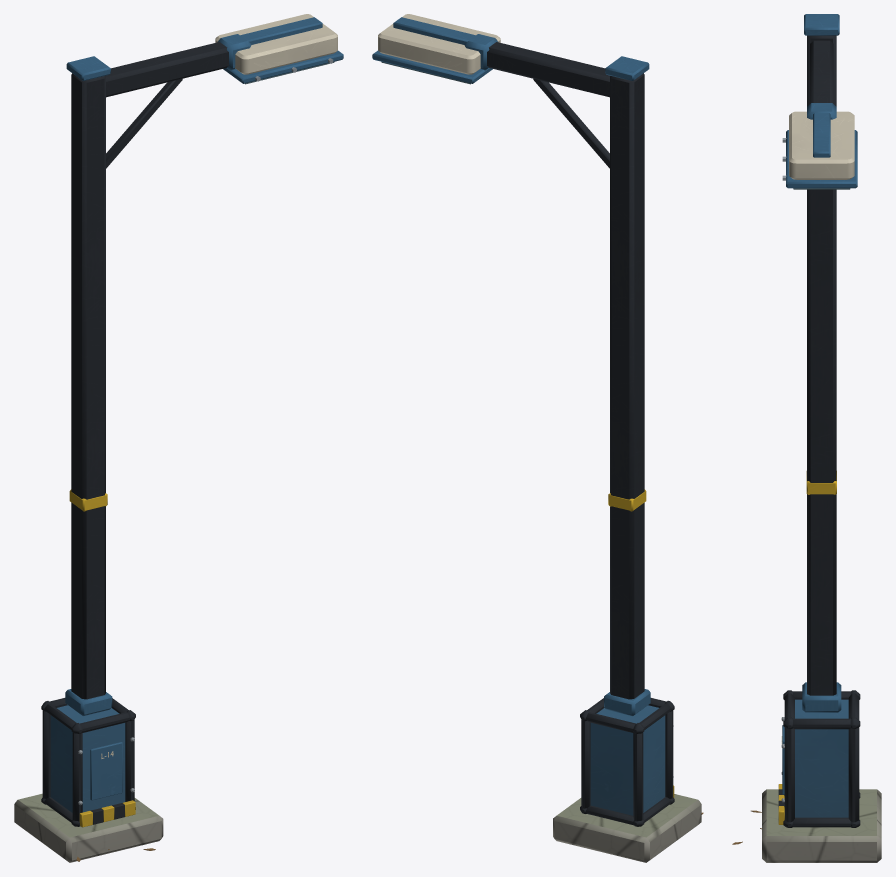
The model's file is street_lamp.glb.
The picture shows the model from 3 angles, left to right: view 1: azimuth 30°, elevation 25°; view 2: azimuth 150°, elevation 25°; view 3: azimuth 270°, elevation 25°; orthographic projection. The views are drawn at different scales.
Visible parts, largest first — view 1: street_lamp; view 2: street_lamp; view 3: street_lamp.
Part boxes in pixels (x1,y1,x2,y2): street_lamp: (14,14,343,862); street_lamp: (372,14,703,862); street_lamp: (732,14,881,862).
Bounding box in the file's own units: 2.37 × 6.05 × 0.9989.
Materials: 13 (13 with a texture image).
